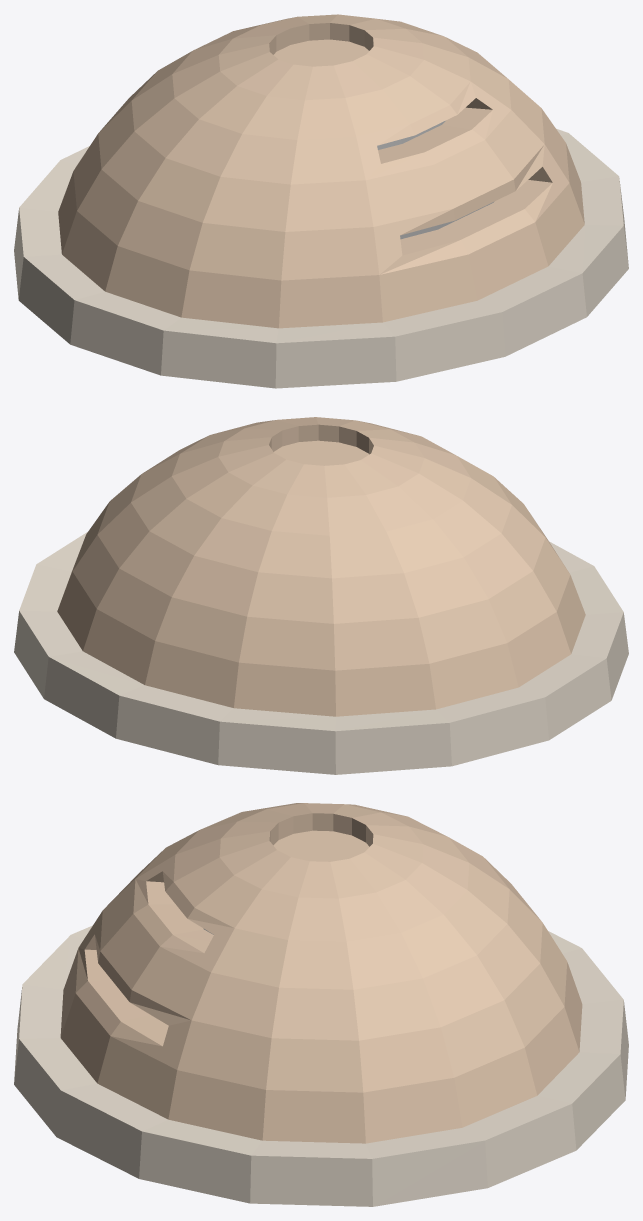
File: house2.fbx
3 views of the same model, one above another, from view 1: azimuth 30°, elevation 25°; view 2: azimuth 150°, elevation 25°; view 3: azimuth 270°, elevation 25° (orthographic). The views are drawn at different scales.
Visible parts, largest first — view 1: house2; view 2: house2; view 3: house2.
Part boxes in pixels (x1=…): house2: x1=14, y1=14, x2=628, y2=388; house2: x1=14, y1=417, x2=628, y2=774; house2: x1=14, y1=803, x2=628, y2=1206.
Bounding box in the file's own units: 2.22 × 0.8348 × 2.03.
